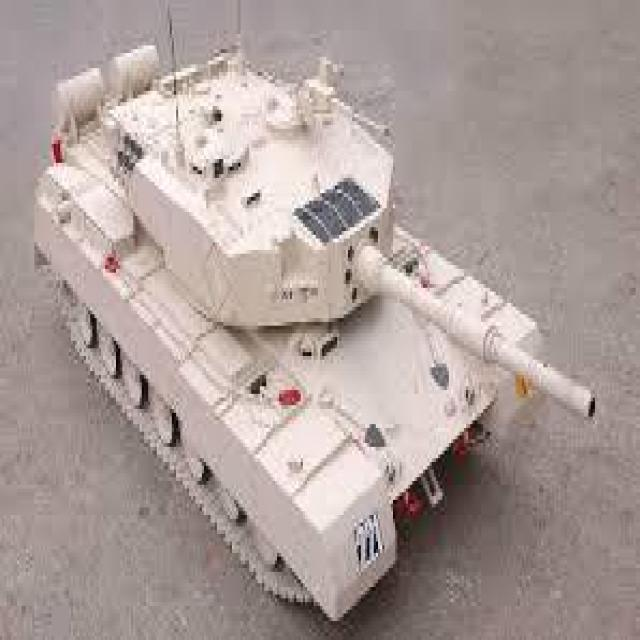Tanks: (14, 21, 549, 619)
